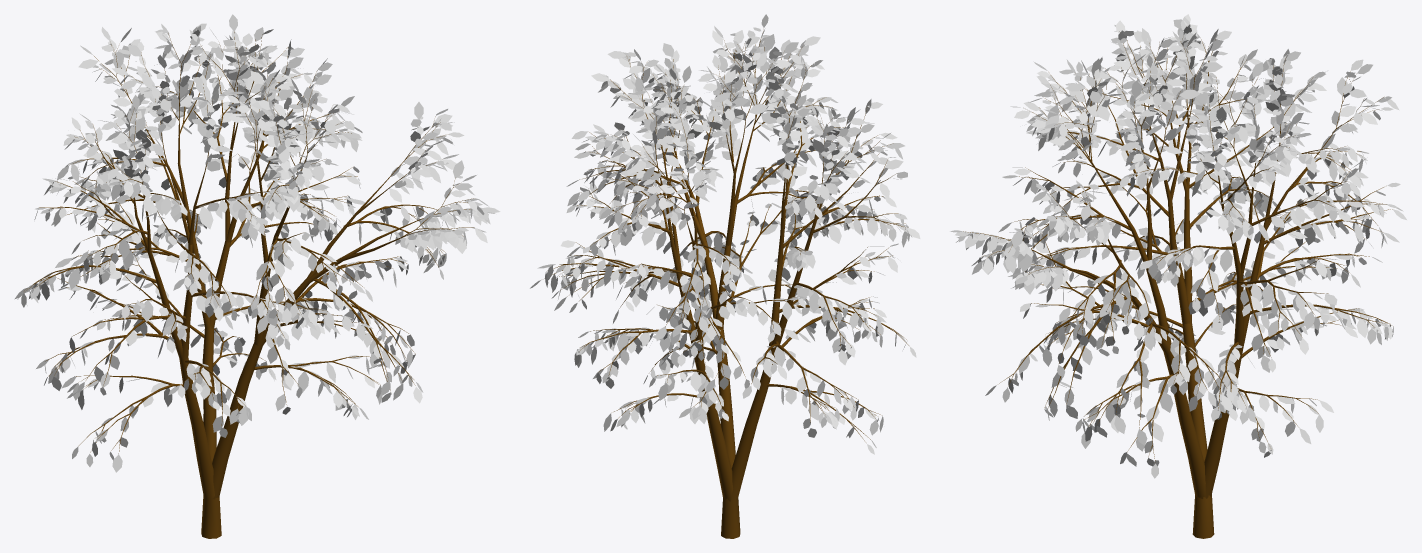
3 views of the same model, side by side, from view 1: azimuth 30°, elevation 25°; view 2: azimuth 150°, elevation 25°; view 3: azimuth 270°, elevation 25° (orthographic). The views are drawn at different scales.
Visible parts, largest first — view 1: leaves, tree; view 2: leaves, tree; view 3: leaves, tree.
Boxes of the visible parts, x1,y1,x2,y2 form: leaves: [14, 14, 500, 472]; tree: [24, 32, 474, 538]; leaves: [530, 14, 920, 454]; tree: [544, 31, 908, 538]; leaves: [950, 14, 1406, 478]; tree: [963, 38, 1392, 538].
Size of the model in its own units: 1348 by 1663 by 1380.
